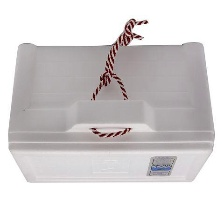foam_box: (2, 16, 218, 189)
